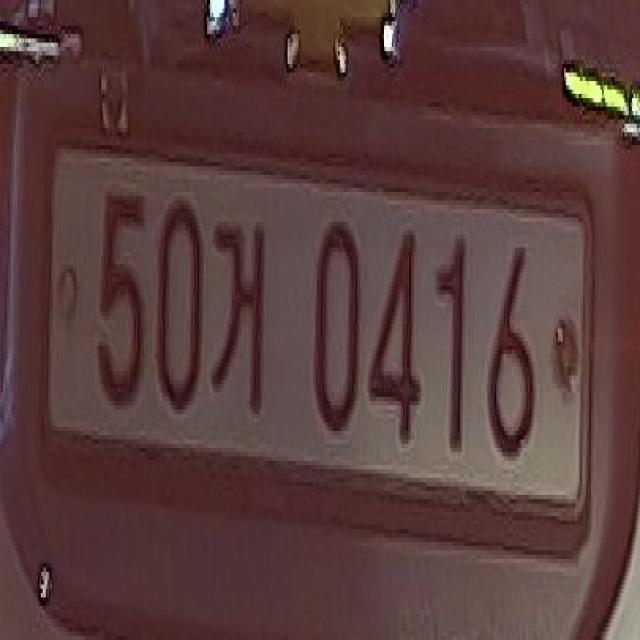0: (311, 210, 364, 442), (154, 184, 203, 418)
1: (434, 221, 476, 469)
4: (368, 212, 428, 450)
5: (90, 189, 148, 422)
6: (486, 243, 544, 472)
geo: (210, 198, 280, 424)
license_plate: (45, 150, 595, 542)
